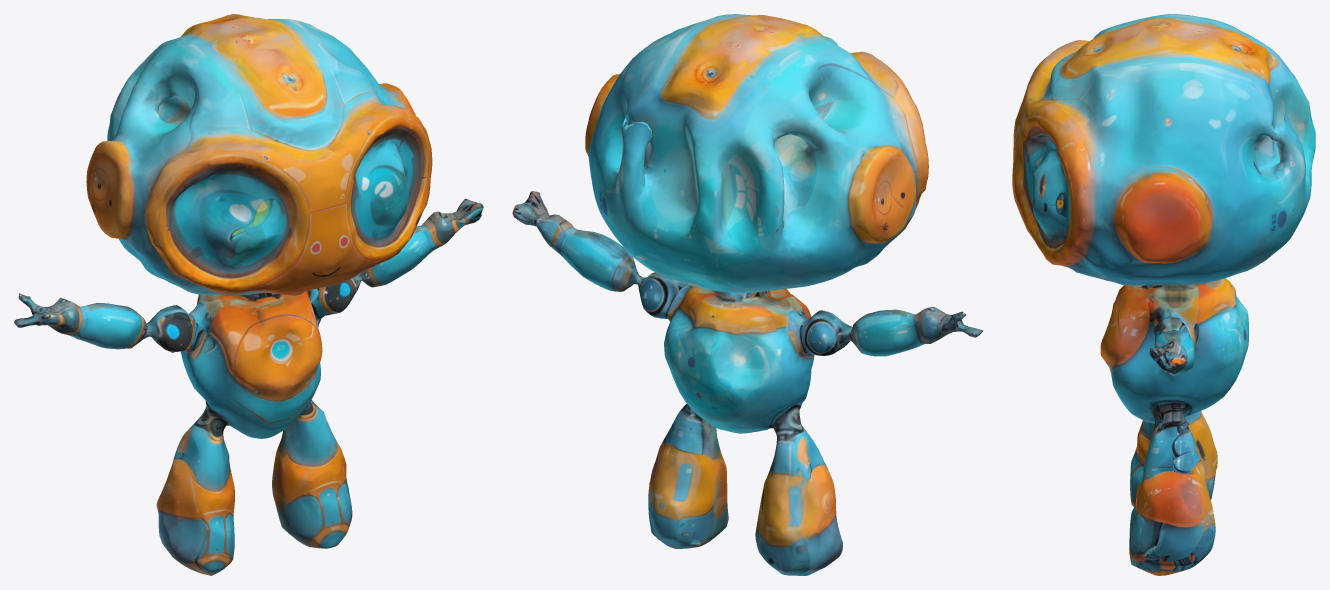
3 renders of one model, left to right at view 1: azimuth 30°, elevation 25°; view 2: azimuth 150°, elevation 25°; view 3: azimuth 270°, elevation 25°, orthographic. The views are drawn at different scales.
Size of the model in its own units: 1.1 by 1.2 by 0.6394.
Materials: 1 (1 with a texture image).
